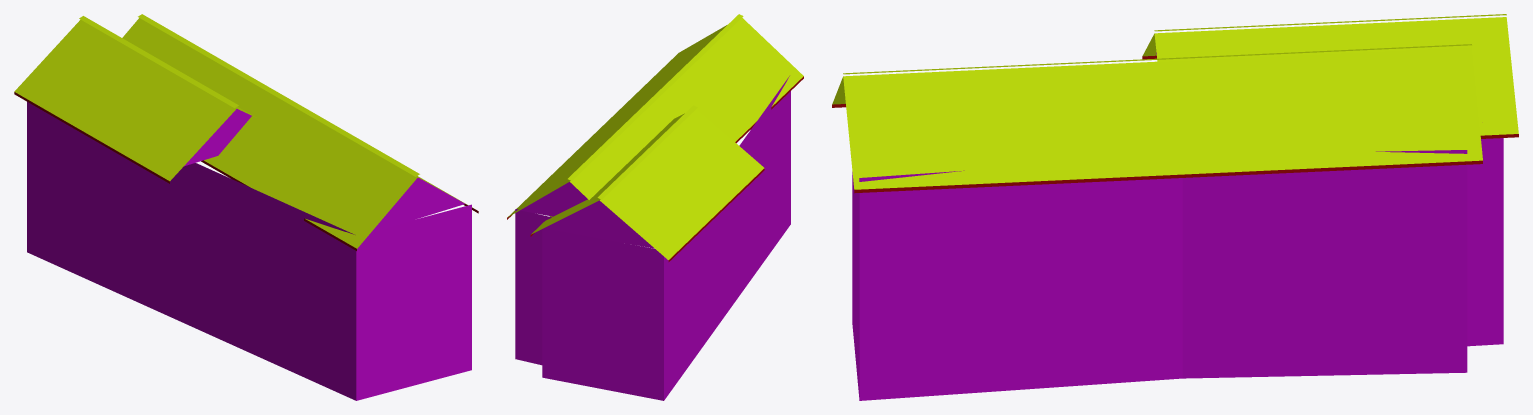
File: bgj_201.glb
3 views of the same model, side by side, from view 1: azimuth 30°, elevation 25°; view 2: azimuth 150°, elevation 25°; view 3: azimuth 270°, elevation 25° (orthographic). The views are drawn at different scales.
Visible parts, largest first — view 1: bgj_201; view 2: bgj_201; view 3: bgj_201.
Boxes of the visible parts, x1=… form: bgj_201: x1=14, y1=14, x2=478, y2=400; bgj_201: x1=507, y1=14, x2=803, y2=400; bgj_201: x1=832, y1=14, x2=1518, y2=400.
Size of the model in its own units: 11.29 by 10.21 by 22.02.
